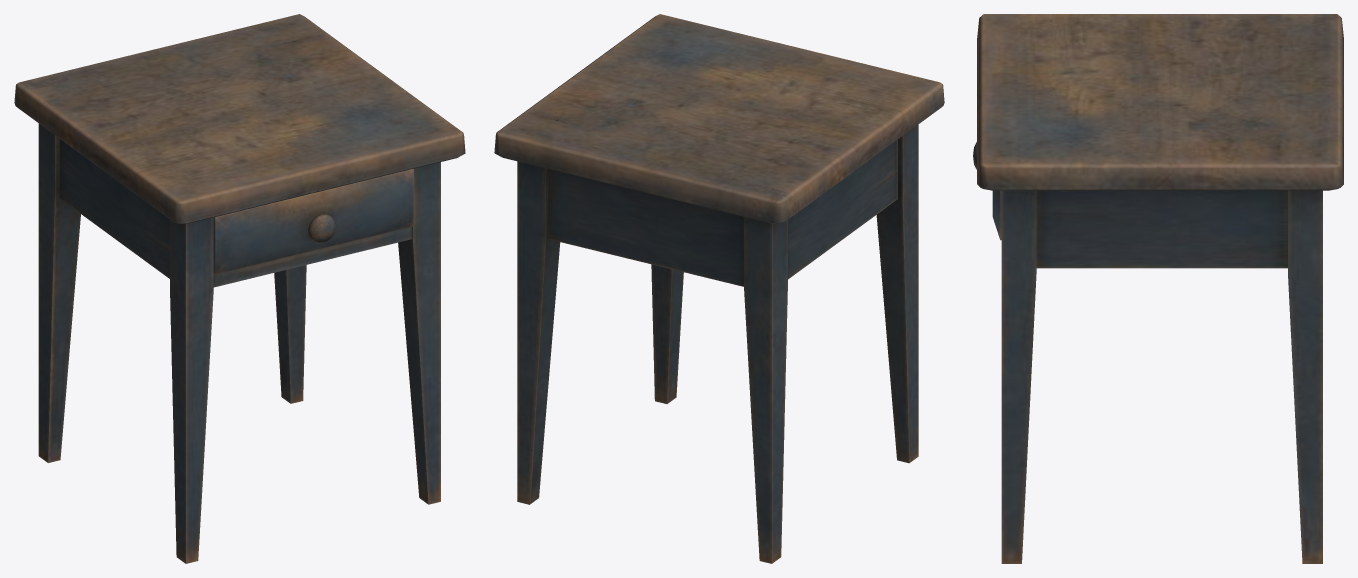
File: painted_wooden_nightstand.gltf
The picture shows the model from 3 angles, left to right: view 1: azimuth 30°, elevation 25°; view 2: azimuth 150°, elevation 25°; view 3: azimuth 270°, elevation 25°; orthographic projection. The views are drawn at different scales.
Visible parts, largest first — view 1: painted_wooden_nightstand, painted_wooden_nightstand_drawer; view 2: painted_wooden_nightstand; view 3: painted_wooden_nightstand, painted_wooden_nightstand_drawer.
Part boxes in pixels (left/top/right/bottom): painted_wooden_nightstand: left=14, top=14, right=465, bottom=563; painted_wooden_nightstand_drawer: left=213, top=168, right=413, bottom=274; painted_wooden_nightstand: left=494, top=14, right=944, bottom=563; painted_wooden_nightstand: left=977, top=14, right=1343, bottom=563; painted_wooden_nightstand_drawer: left=973, top=142, right=1001, bottom=240.
Size of the model in its own units: 0.5046 by 0.6155 by 0.5087.
1 material, 1 textured.
